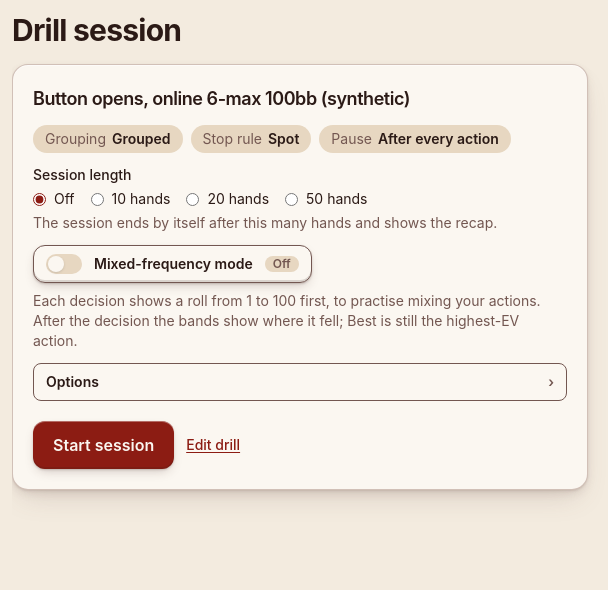
Test case: R3.13 the start panel's Options › R3.13 spot mode offers no pause override (it always pauses, O-284), and Edit drill links to the builder
Expected: the heading "Button opens, online 6-max 100bb (synthetic)" is shown, [33,85,410,113]
Step 1. Click the button "Options ›" → click(72, 382), box [33,363,567,401]
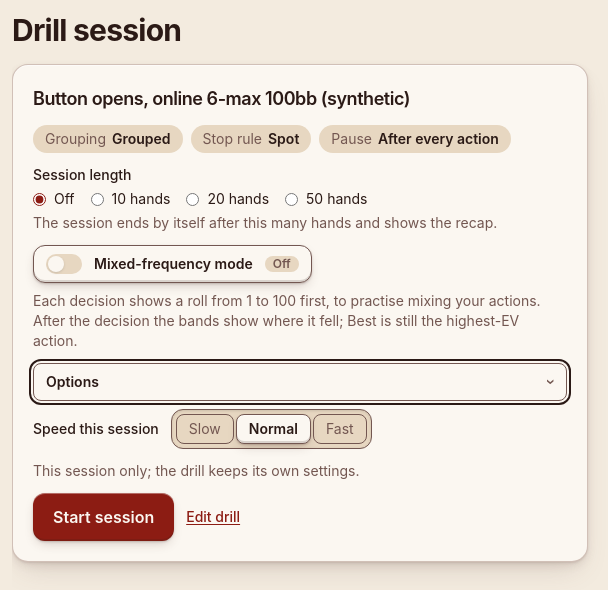
Expected: the heading "Button opens, online 6-max 100bb (synthetic)" is shown, [33,85,410,113]
Result: the element named "Speed this session" is shown at [171,409,372,449]
